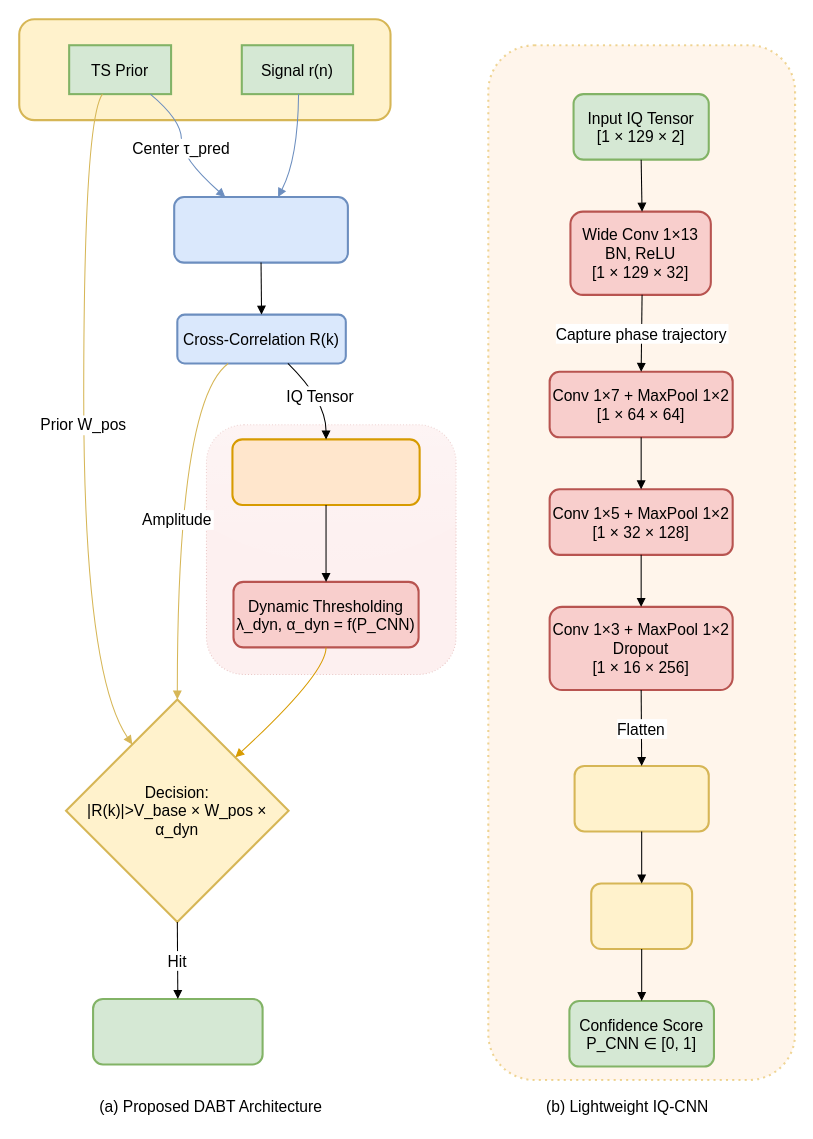
Image size: 813x1139. Some labels were removed from this diagram. Here are the shapes that lost their labels. From the top down, the box of each, then its label:
(173, 196, 348, 263): Search Space Reduction Localized Window W
(231, 438, 420, 505): GAN-Augmented IQ-CNN Score: P_CNN
(573, 764, 709, 832): FC 128 ReLU, Dropout
(590, 882, 693, 950): FC 2 Softmax
(92, 997, 263, 1065): Quadratic Interpolation Timing τ_hat
